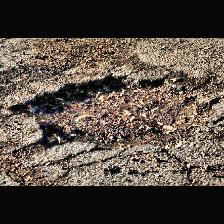pothole: (7, 74, 216, 150)
